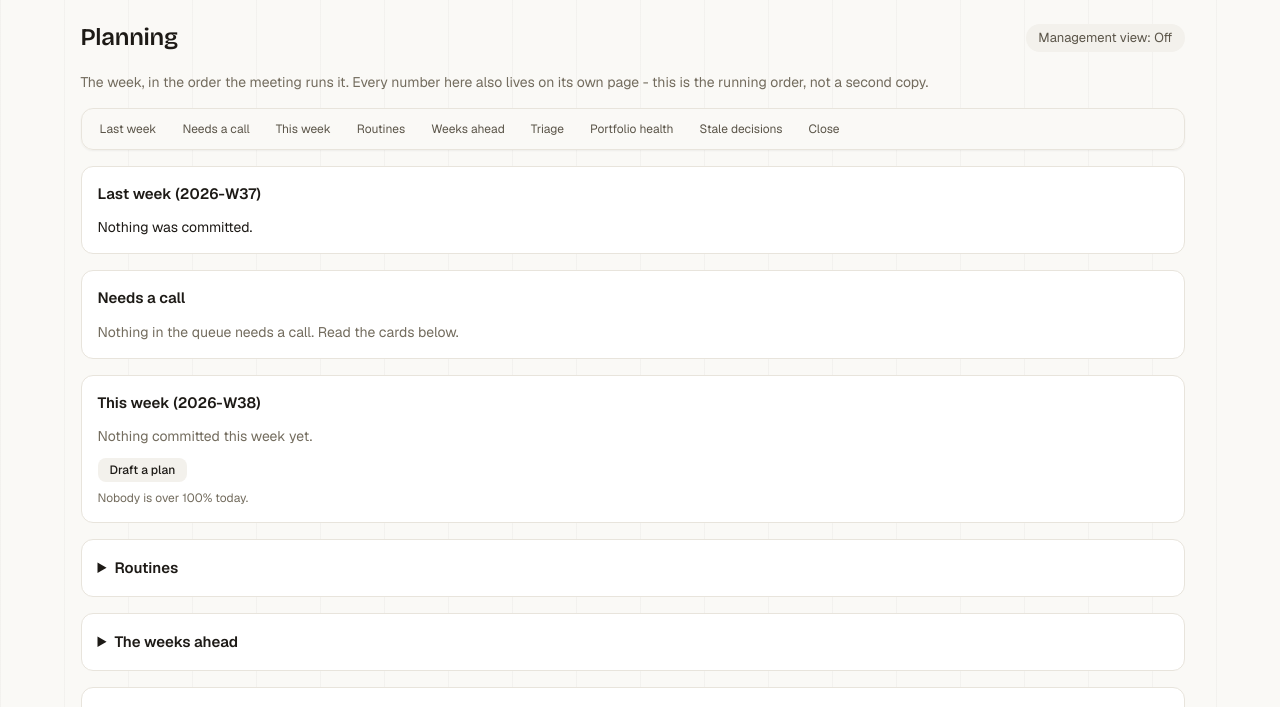
Planning's weekly plan › keeps supporting context behind a focusable agenda summary
Check: the button "Draft a plan" is shown, box [98,458,187,482]
Click the heading "The weeks ahead": (176, 642) [114,632,238,651]
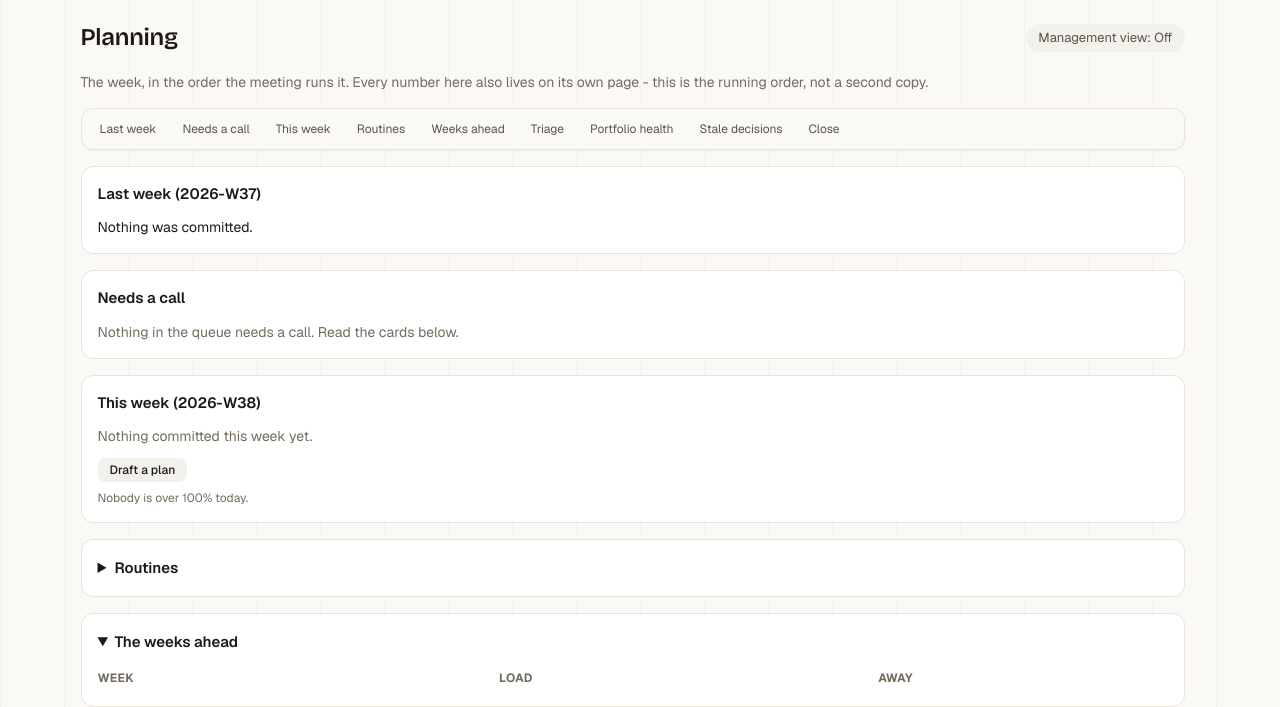
Check: the table named "Allocation per person" is shown, box [98,666,1168,690]
